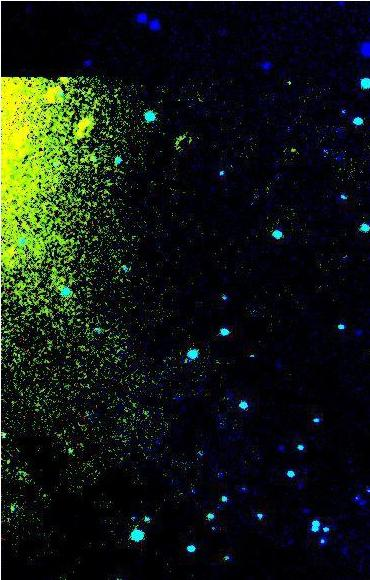star: (275, 73, 305, 103)
